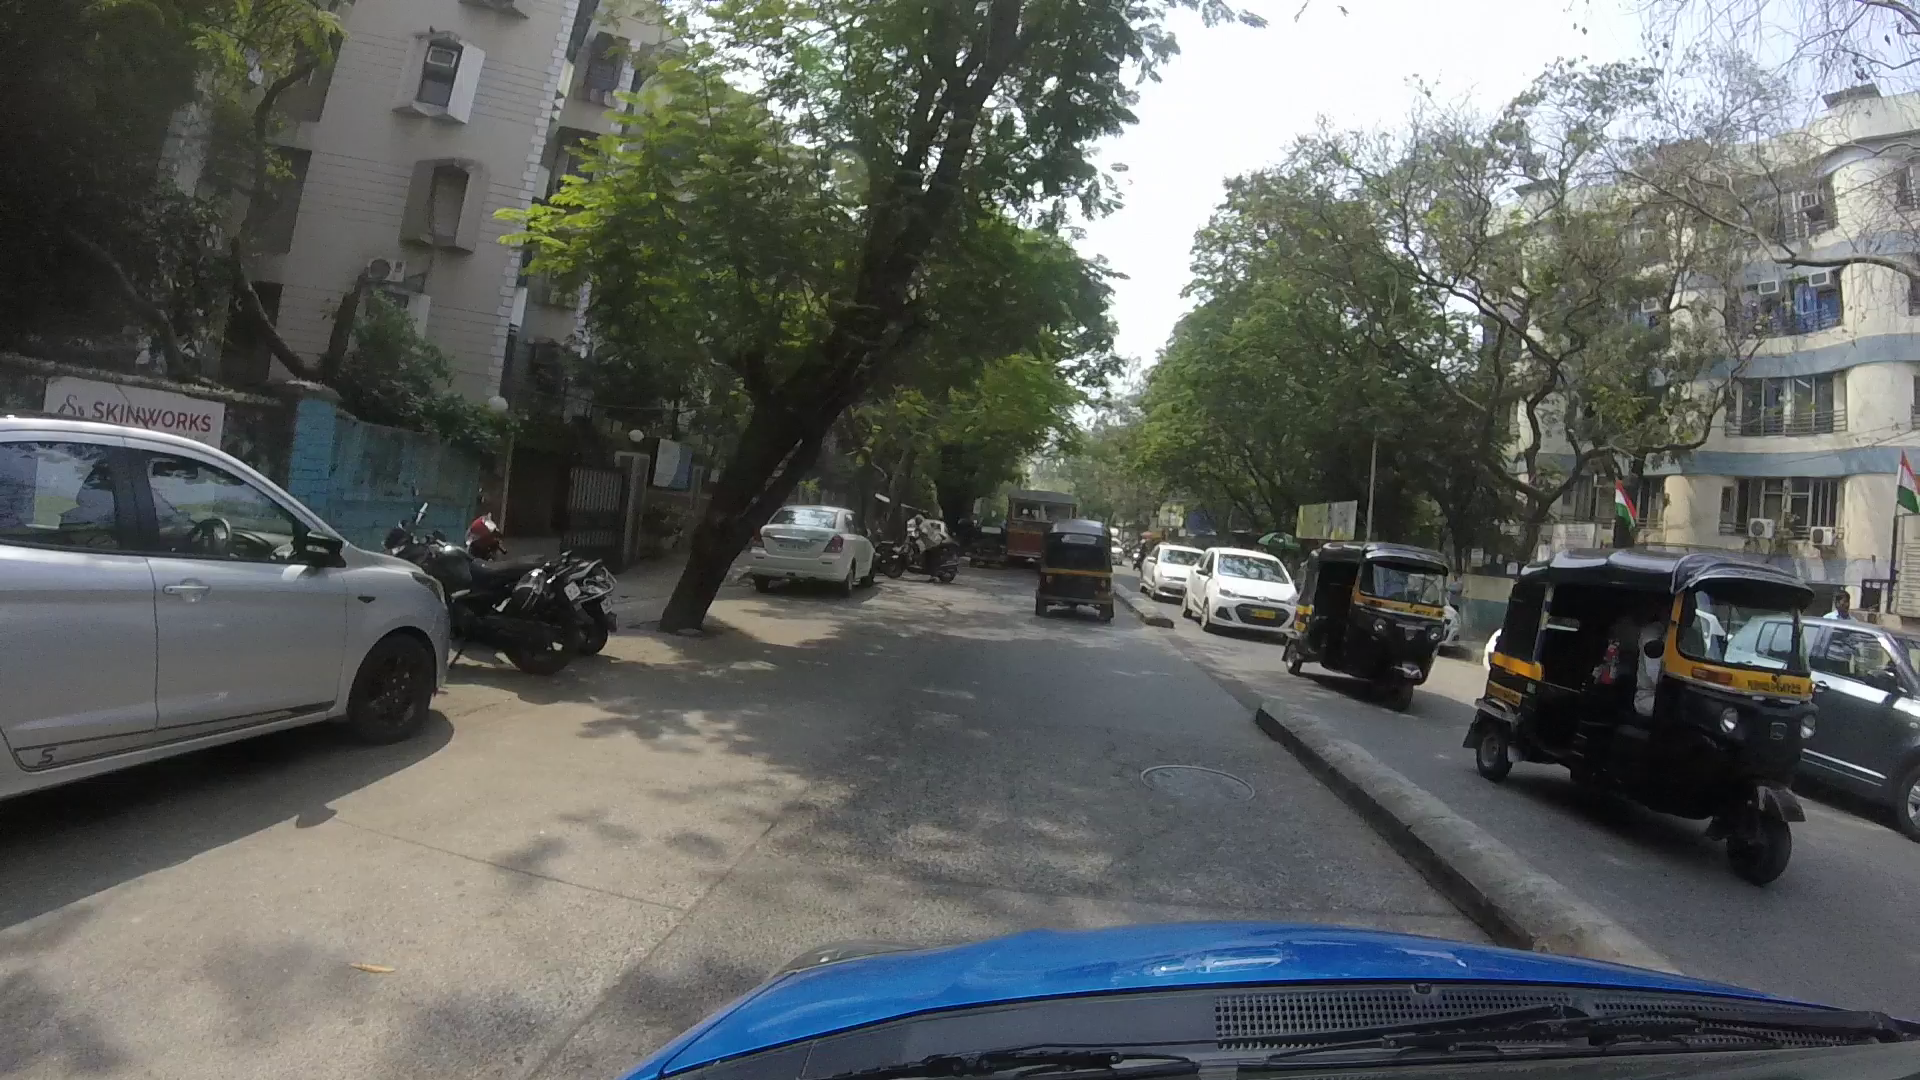bike/scooter: (455, 522, 628, 669)
car: (8, 410, 440, 795), (1734, 618, 1920, 836), (742, 498, 887, 589), (1189, 545, 1305, 640)
rickshaw: (1476, 539, 1811, 895), (1280, 535, 1447, 695), (1013, 516, 1137, 626)
